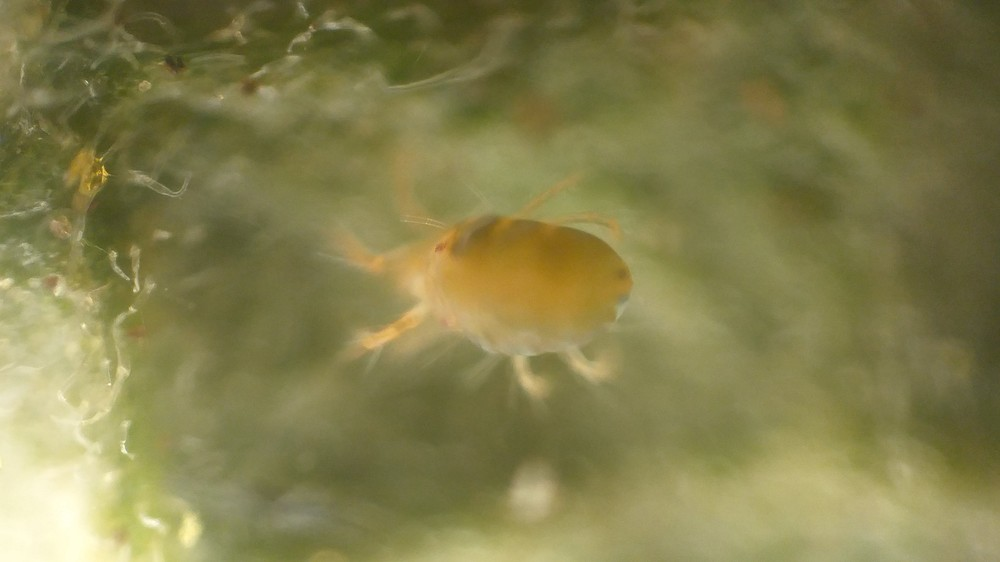Aracnido Rojo: (327, 106, 690, 469)
